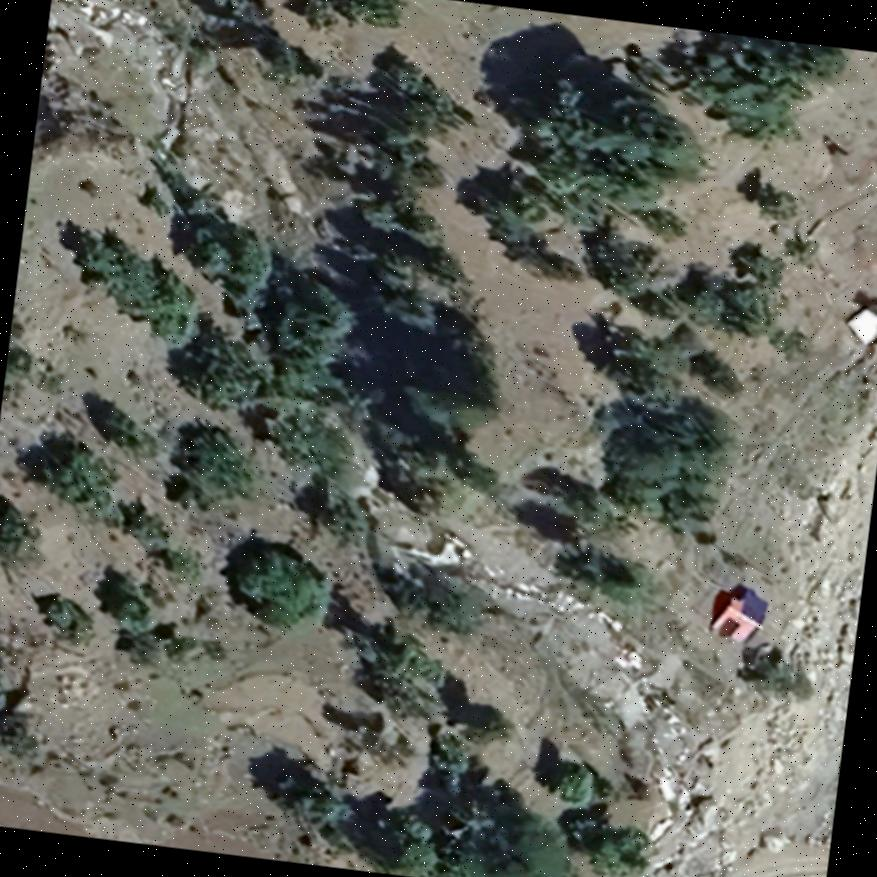Solarpanel: (740, 589, 771, 628)
